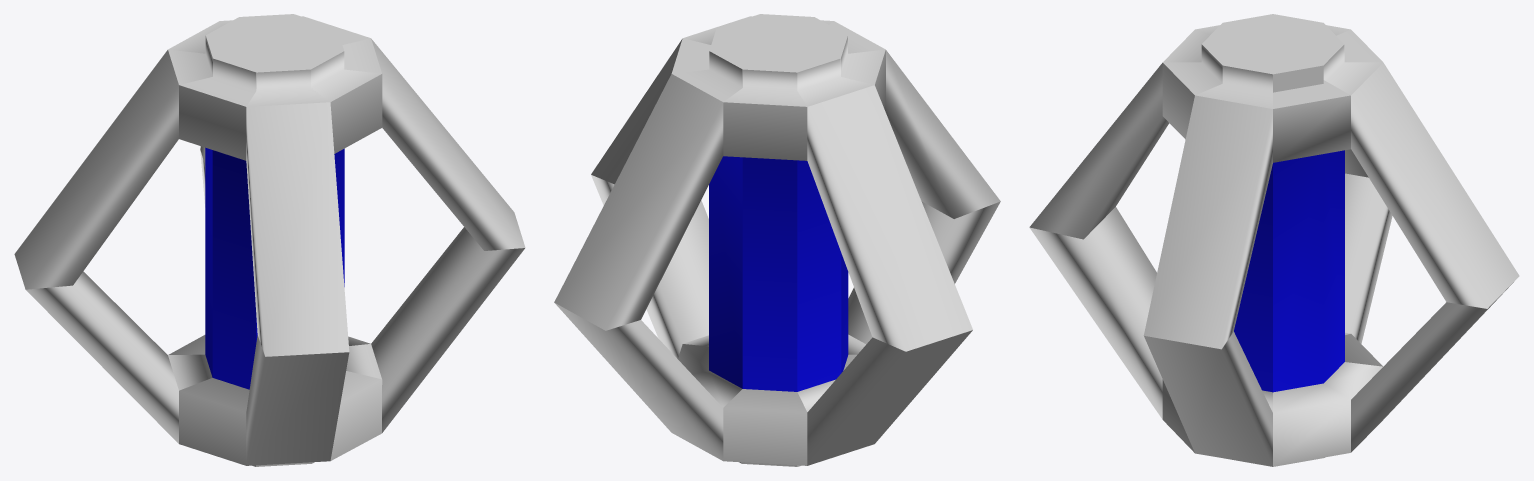
The model's file is multiItem.fbx.
The picture shows the model from 3 angles, left to right: view 1: azimuth 30°, elevation 25°; view 2: azimuth 150°, elevation 25°; view 3: azimuth 270°, elevation 25°; orthographic projection.
Parts seen in each view (by area): view 1: polySurface1; view 2: polySurface1; view 3: polySurface1.
Boxes of the visible parts, x1,y1,x2,y2 form: polySurface1: [14, 14, 525, 466]; polySurface1: [554, 14, 1000, 466]; polySurface1: [1029, 14, 1519, 466].
Size of the model in its own units: 13.52 by 11.67 by 13.24.
